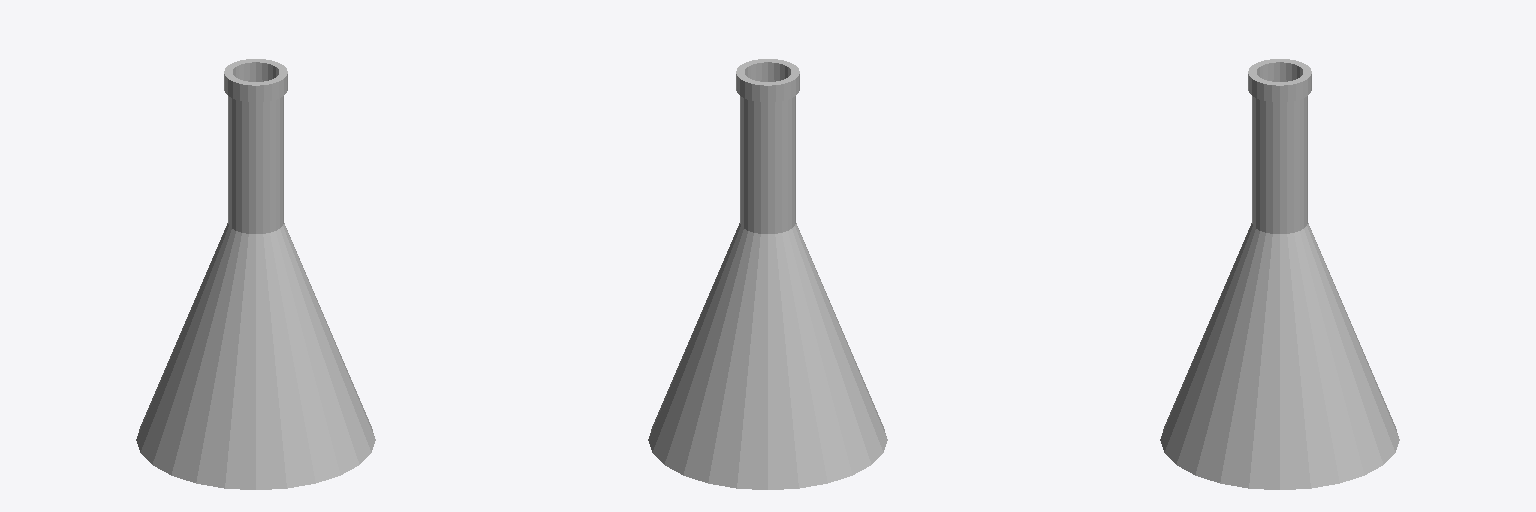
The model's file is Probeta1.obj.
The picture shows the model from 3 angles: view 1: azimuth 30°, elevation 25°; view 2: azimuth 150°, elevation 25°; view 3: azimuth 270°, elevation 25°; orthographic projection.
Parts seen in each view (by area): view 1: Cilindro; view 2: Cilindro; view 3: Cilindro.
Boxes of the visible parts, x1=… form: Cilindro: x1=136, y1=59, x2=375, y2=489; Cilindro: x1=648, y1=59, x2=887, y2=489; Cilindro: x1=1160, y1=59, x2=1399, y2=489.
Size of the model in its own units: 0.2755 by 0.4666 by 0.2755.